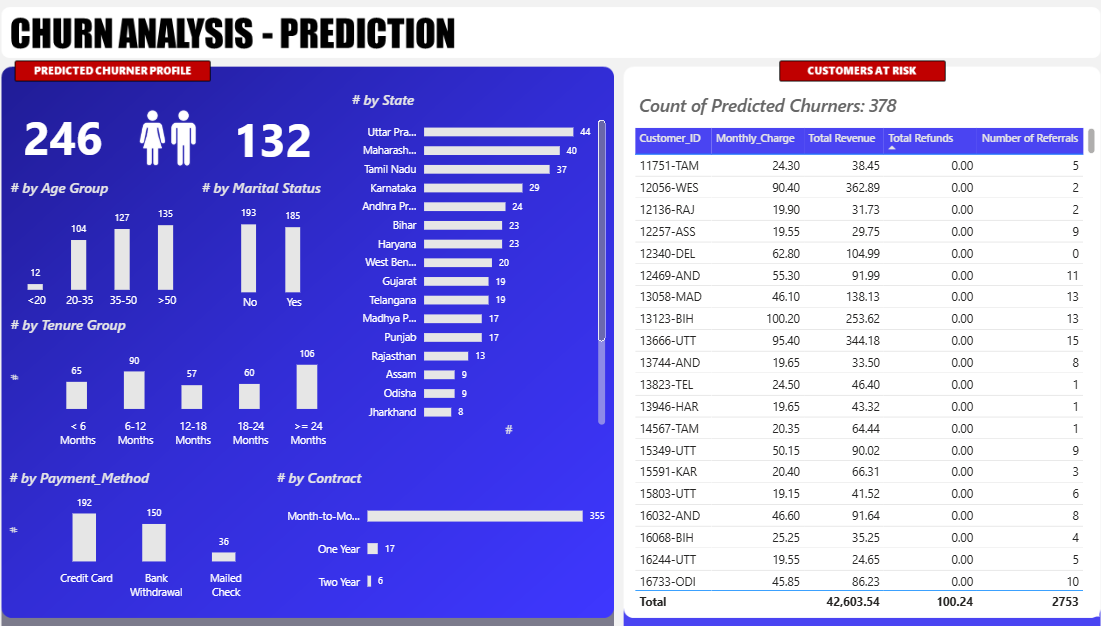

The dashboard page shown, as its layout file describes it:
{"tool":"powerbi","page":{"name":"Churn Prediction","canvas":[1280,720],"ordinal":2},"visuals":[{"type":"tableEx","fields":{"Values":["Predictions.Customer_ID","Predictions.Monthly_Charge","Sum(Predictions.Total_Revenue)","Sum(Predictions.Total_Refunds)","Sum(Predictions.Number_of_Referrals)"]},"box":[730,141.4,537.1,562.9],"z":0},{"type":"card","fields":{"Values":["_Measure.Title"]},"box":[730,102.9,315.7,38.6],"z":1},{"type":"card","fields":{"Values":["_Measure.Count Predicted Churner"]},"box":[17.1,115.7,130,80],"z":2},{"type":"card","fields":{"Values":["_Measure.Count Predicted Churner"]},"box":[257.1,116.4,130,80],"z":3},{"type":"clusteredColumnChart","fields":{"Category":["mapping_AgeGroup.Age Group"],"Y":["CountNonNull(Predictions.Customer_ID)"]},"box":[17.1,202.9,218.6,158.6],"z":4},{"type":"clusteredColumnChart","fields":{"Y":["CountNonNull(Predictions.Customer_ID)"],"Category":["Predictions.Married"]},"box":[235.7,202.9,171.4,161.4],"z":5},{"type":"clusteredColumnChart","fields":{"Y":["CountNonNull(Predictions.Customer_ID)"],"Category":["mapping_TenureGroup.Tenure Group"]},"box":[17.1,360,390,158.6],"z":6},{"type":"clusteredColumnChart","fields":{"Y":["CountNonNull(Predictions.Customer_ID)"],"Category":["Predictions.Payment_Method"]},"box":[15.7,534.3,305.7,158.6],"z":7},{"type":"clusteredBarChart","fields":{"Category":["Predictions.Contract"],"Y":["CountNonNull(Predictions.Customer_ID)"]},"box":[321.4,534.3,385.7,158.6],"z":8},{"type":"clusteredBarChart","fields":{"Y":["CountNonNull(Predictions.Customer_ID)"],"Category":["Predictions.State"]},"box":[407.1,102.9,300,401.4],"z":9},{"type":"image","box":[137.1,117.1,130,80],"z":10}]}

Visuals, with their boxes in screenshot pixels (x1, y1, x2, y2), scaled from the page's 1280x720 canvas onto the 1101x626 screenshot:
tableEx - Predictions.Customer_ID x Predictions.Monthly_Charge: select_region(628, 123, 1090, 612)
card - _Measure.Title: select_region(628, 89, 899, 123)
card - _Measure.Count Predicted Churner: select_region(15, 101, 127, 170)
card - _Measure.Count Predicted Churner: select_region(221, 101, 333, 171)
clusteredColumnChart - mapping_AgeGroup.Age Group x CountNonNull(Predictions.Customer_ID): select_region(15, 176, 203, 314)
clusteredColumnChart - CountNonNull(Predictions.Customer_ID) x Predictions.Married: select_region(203, 176, 350, 317)
clusteredColumnChart - CountNonNull(Predictions.Customer_ID) x mapping_TenureGroup.Tenure Group: select_region(15, 313, 350, 451)
clusteredColumnChart - CountNonNull(Predictions.Customer_ID) x Predictions.Payment_Method: select_region(14, 465, 276, 602)
clusteredBarChart - Predictions.Contract x CountNonNull(Predictions.Customer_ID): select_region(276, 465, 608, 602)
clusteredBarChart - CountNonNull(Predictions.Customer_ID) x Predictions.State: select_region(350, 89, 608, 438)
image: select_region(118, 102, 230, 171)
